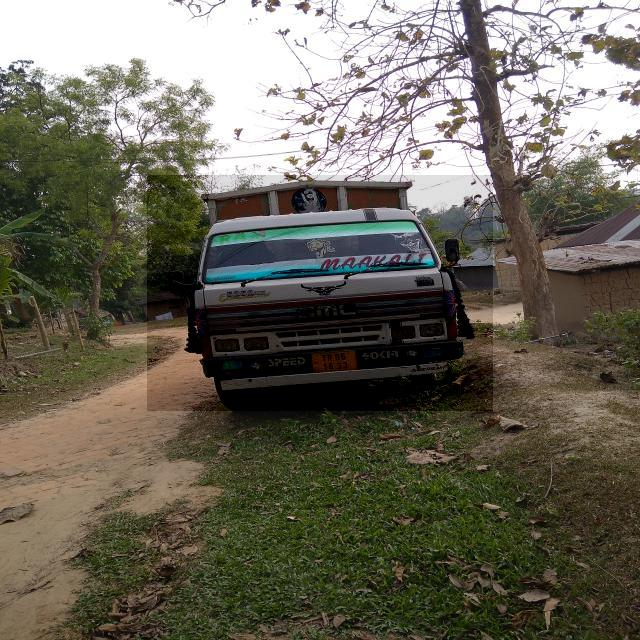Truck: (147, 176, 493, 412)
